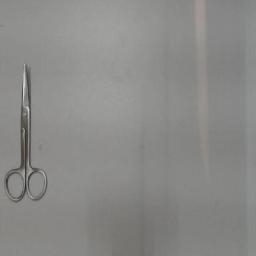Dressing Scissors: (0, 56, 54, 206)
